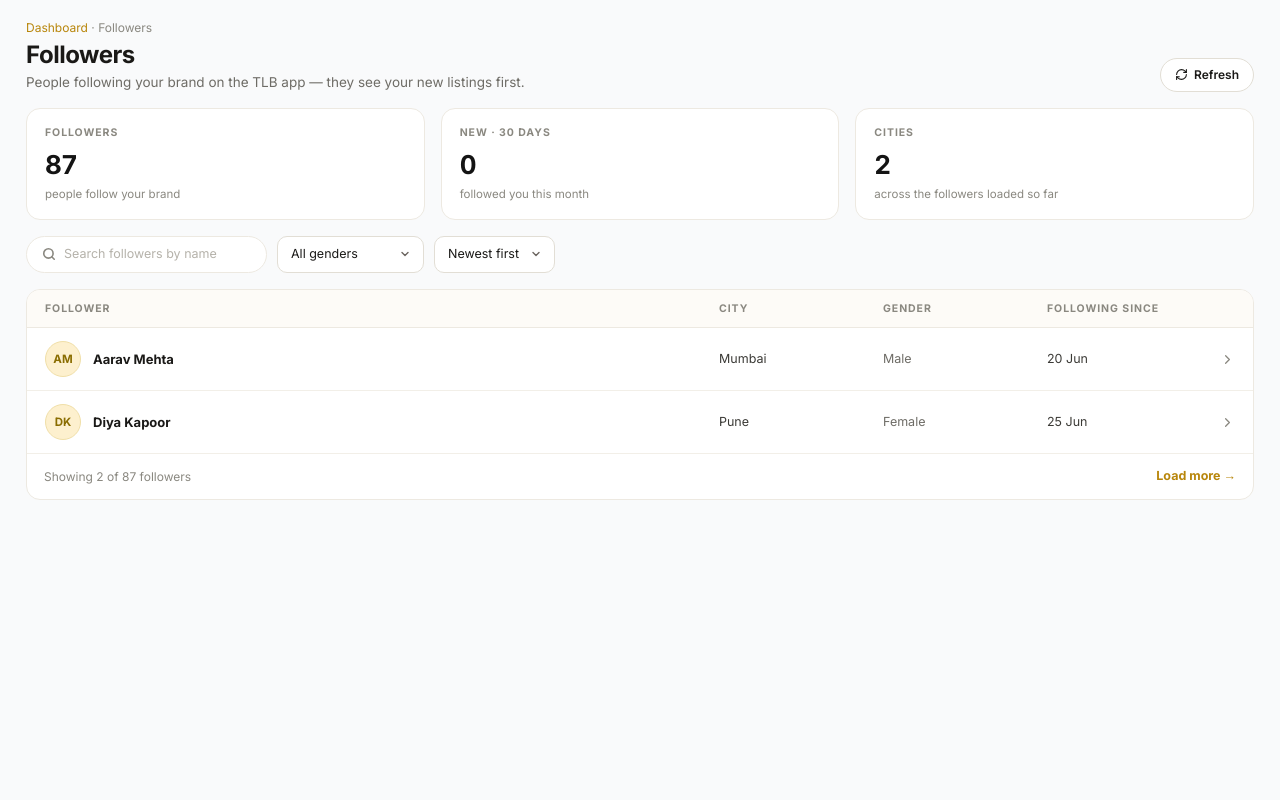
Scenario: Followers — detail › opens a follower and shows their engagement and contact details
The width and height of the screenshot is (1280, 800).
Click the text "Aarav Mehta" at (133, 359), box [93, 350, 174, 369]
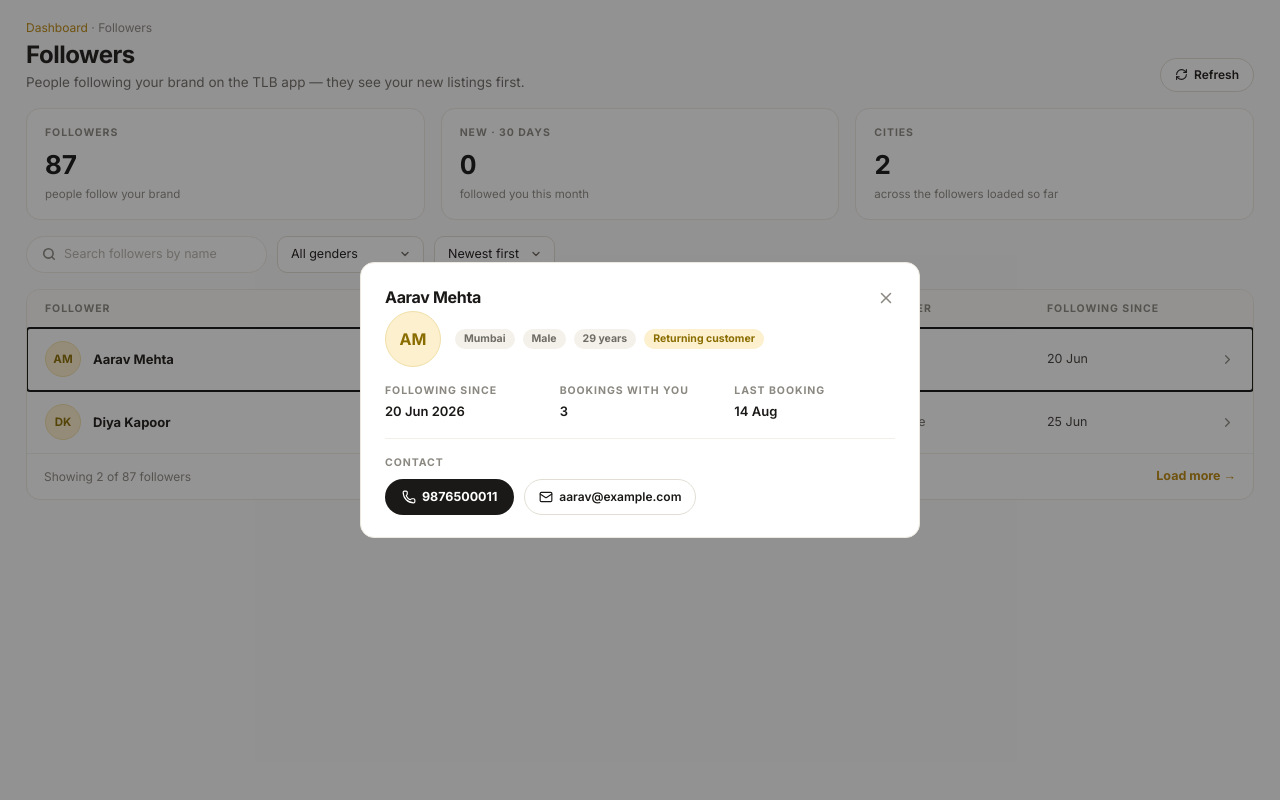
expect the link "aarav@example.com" is shown: met, box [524, 479, 696, 515]
expect the text "Returning customer" is shown: met, box [644, 329, 764, 349]
expect the text "Bookings with you" is shown: met, box [560, 384, 689, 397]
